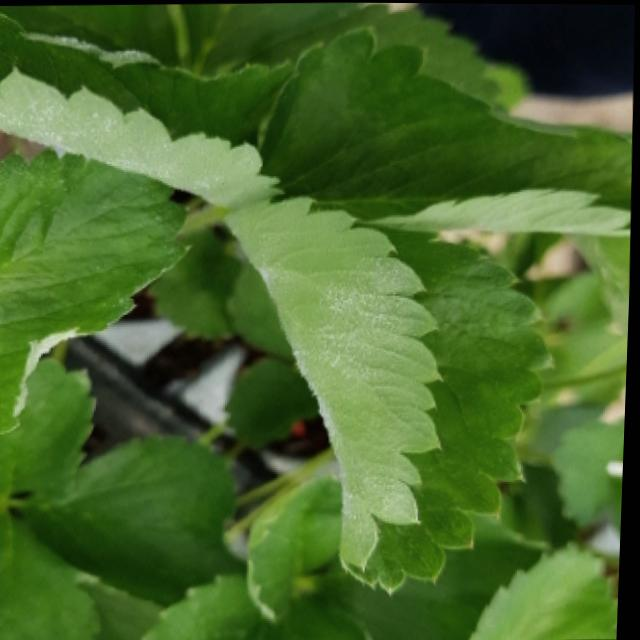Powdery Mildew Leaf: (218, 196, 556, 601), (0, 9, 296, 213), (0, 149, 190, 438)
